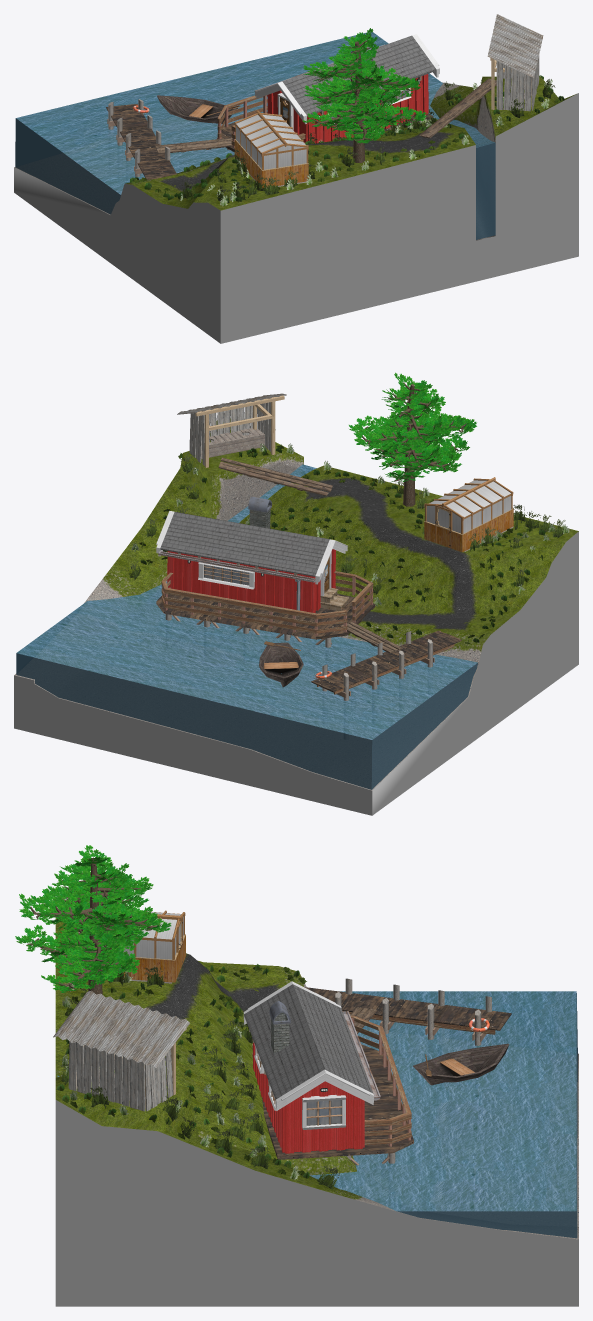
File: Diorama V1.fbx
3 renders of one model, top to bottom at view 1: azimuth 30°, elevation 25°; view 2: azimuth 150°, elevation 25°; view 3: azimuth 270°, elevation 25°, orthographic. The views are drawn at different scales.
Parts seen in each view (by area): view 1: MainGround, Water, Tree, House, GreenHouse, Toilet, Dock, DirtPath, Boat, Foundation, DirtyGrass, ToiletPlank (+1 smaller); view 2: MainGround, Water, House, Tree, Foundation, GreenHouse, Toilet, DirtPath, DirtyGrass, Dock, ToiletPlank, Boat (+1 smaller); view 3: MainGround, Water, House, Tree, Toilet, Foundation, Dock, GreenHouse, Boat, DirtPath, DirtyGrass.
Boxes of the visible parts, left/top/right/bottom form: MainGround: left=14, top=76, right=578, bottom=343; Water: left=15, top=32, right=495, bottom=239; Tree: left=302, top=28, right=426, bottom=162; House: left=254, top=34, right=439, bottom=143; GreenHouse: left=234, top=110, right=308, bottom=188; Toilet: left=487, top=14, right=543, bottom=111; Dock: left=106, top=99, right=176, bottom=179; DirtPath: left=166, top=132, right=447, bottom=189; Boat: left=157, top=95, right=237, bottom=123; Foundation: left=217, top=95, right=433, bottom=152; DirtyGrass: left=153, top=130, right=454, bottom=192; ToiletPlank: left=419, top=78, right=496, bottom=138; MainGround: left=14, top=418, right=578, bottom=815; Water: left=16, top=464, right=477, bottom=789; House: left=156, top=496, right=349, bottom=613; Tree: left=349, top=372, right=476, bottom=506; Foundation: left=156, top=571, right=375, bottom=647; GreenHouse: left=424, top=477, right=513, bottom=552; Toilet: left=177, top=393, right=286, bottom=467; DirtPath: left=309, top=479, right=471, bottom=628; DirtyGrass: left=302, top=477, right=479, bottom=632; Dock: left=311, top=630, right=461, bottom=700; ToiletPlank: left=218, top=457, right=332, bottom=495; Boat: left=259, top=642, right=303, bottom=687; MainGround: left=55, top=918, right=578, bottom=1306; Water: left=57, top=991, right=577, bottom=1238; House: left=243, top=981, right=380, bottom=1153; Tree: left=15, top=845, right=171, bottom=994; Toilet: left=53, top=990, right=189, bottom=1111; Foundation: left=252, top=1015, right=413, bottom=1165; Dock: left=304, top=978, right=511, bottom=1045; GreenHouse: left=76, top=910, right=185, bottom=983; Boat: left=413, top=1043, right=509, bottom=1085; DirtPath: left=114, top=955, right=275, bottom=1067; DirtyGrass: left=65, top=953, right=284, bottom=1070.
Bounding box in the file's own units: 2024 × 1404 × 2159.
29 materials, 26 textured.
